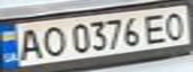0: (66, 20, 90, 54)
3: (87, 18, 109, 52)
6: (121, 14, 145, 47)
7: (103, 16, 127, 50)
A: (12, 26, 45, 62)
E: (139, 10, 172, 44)
O: (160, 8, 193, 41), (36, 24, 69, 57)
